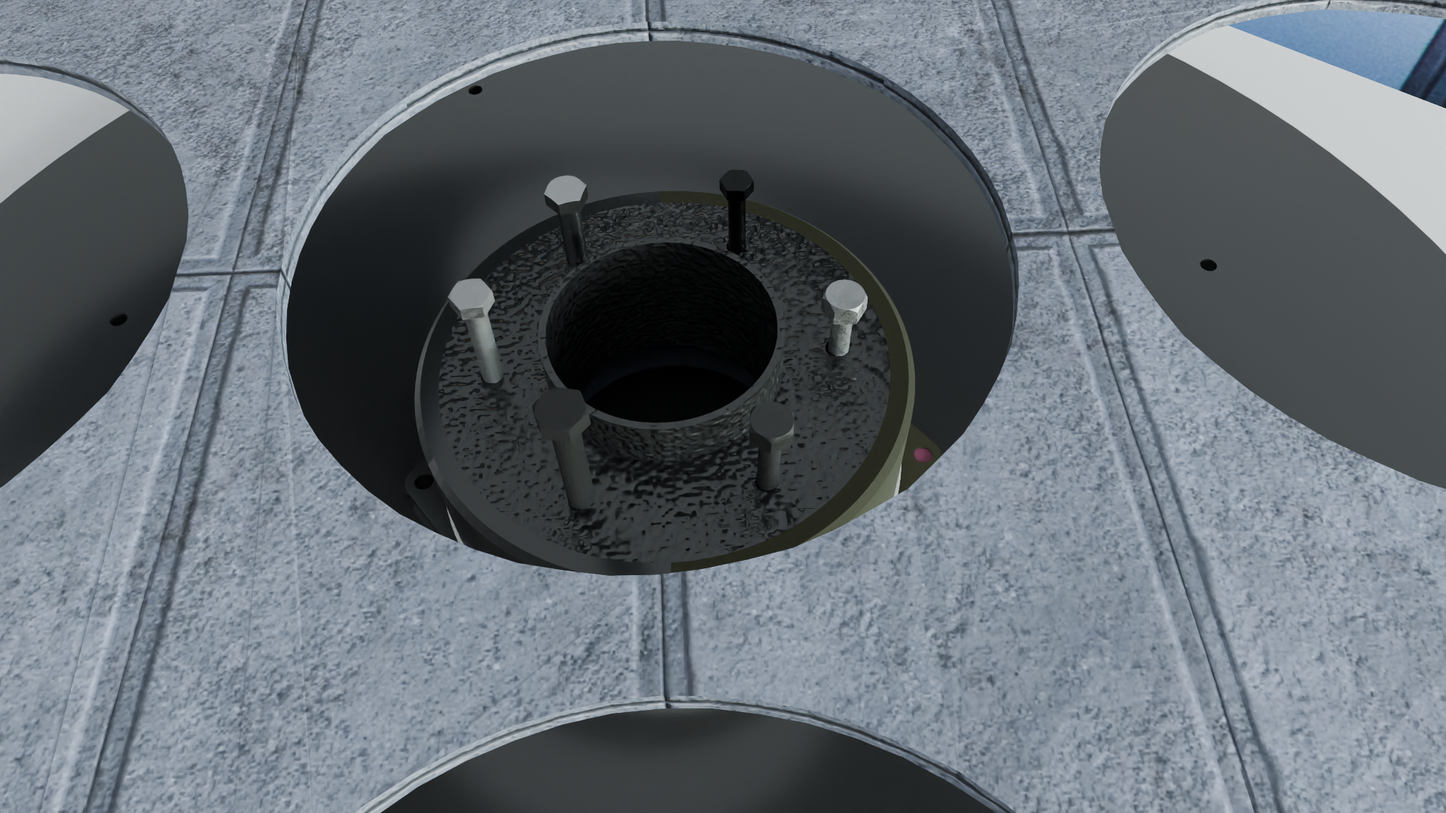bolt: (532, 388, 588, 432), (749, 402, 794, 444), (822, 279, 868, 313), (448, 279, 492, 310), (544, 175, 587, 205), (719, 169, 754, 192)
